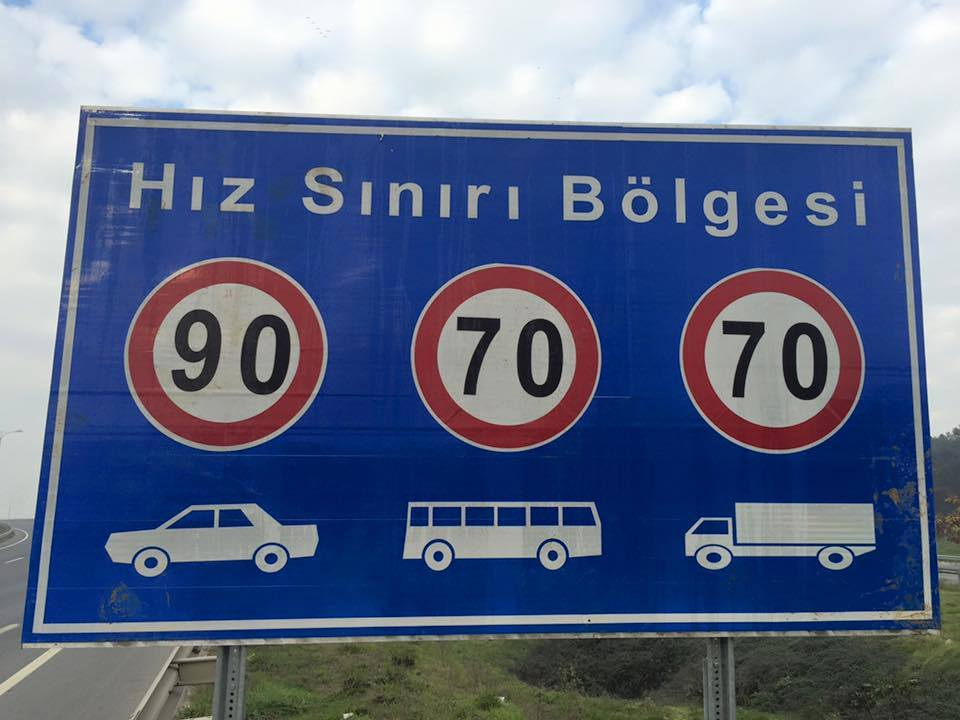70 Km Hiz Siniri: (412, 255, 619, 473), (676, 254, 866, 460)
